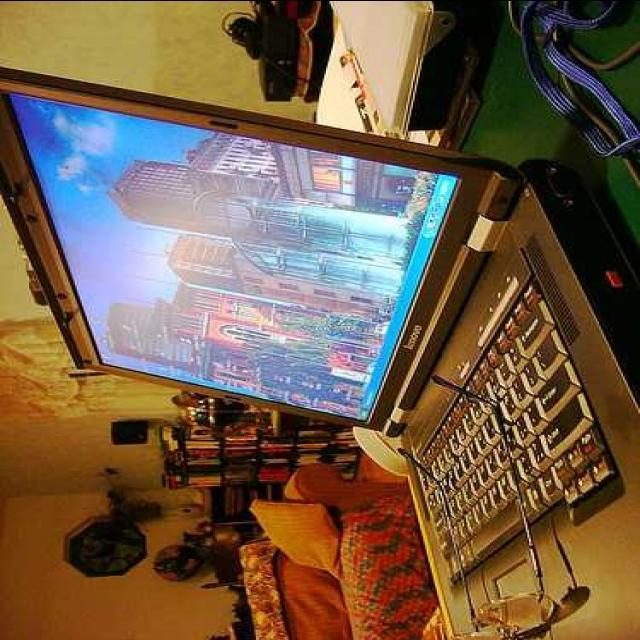laptop: (72, 174, 637, 548)
